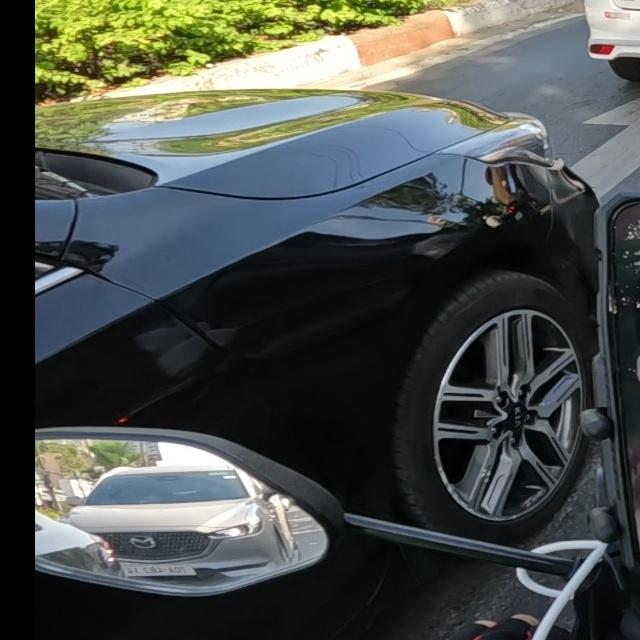license-plate: (119, 563, 195, 577)
